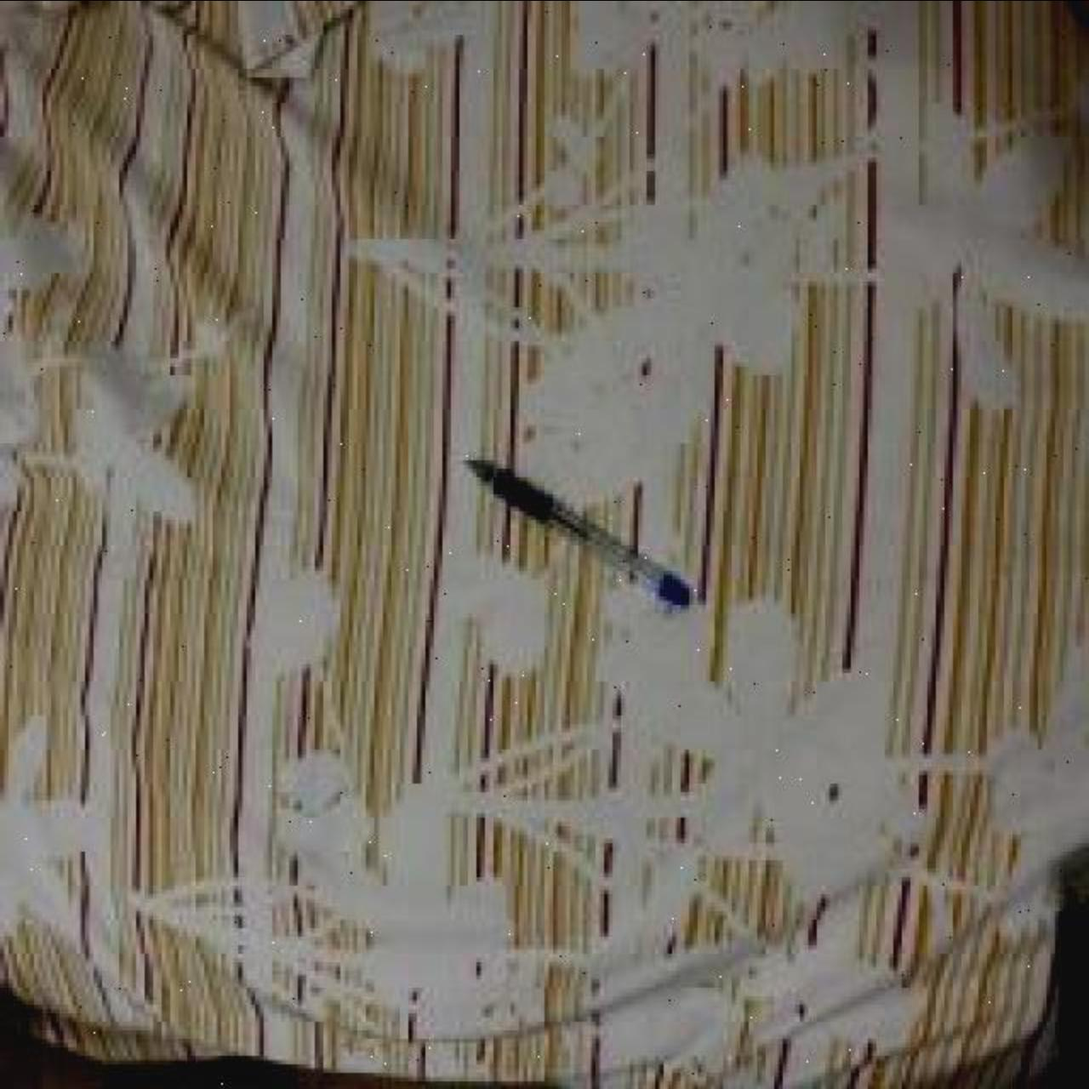pen: (465, 451, 694, 613)
